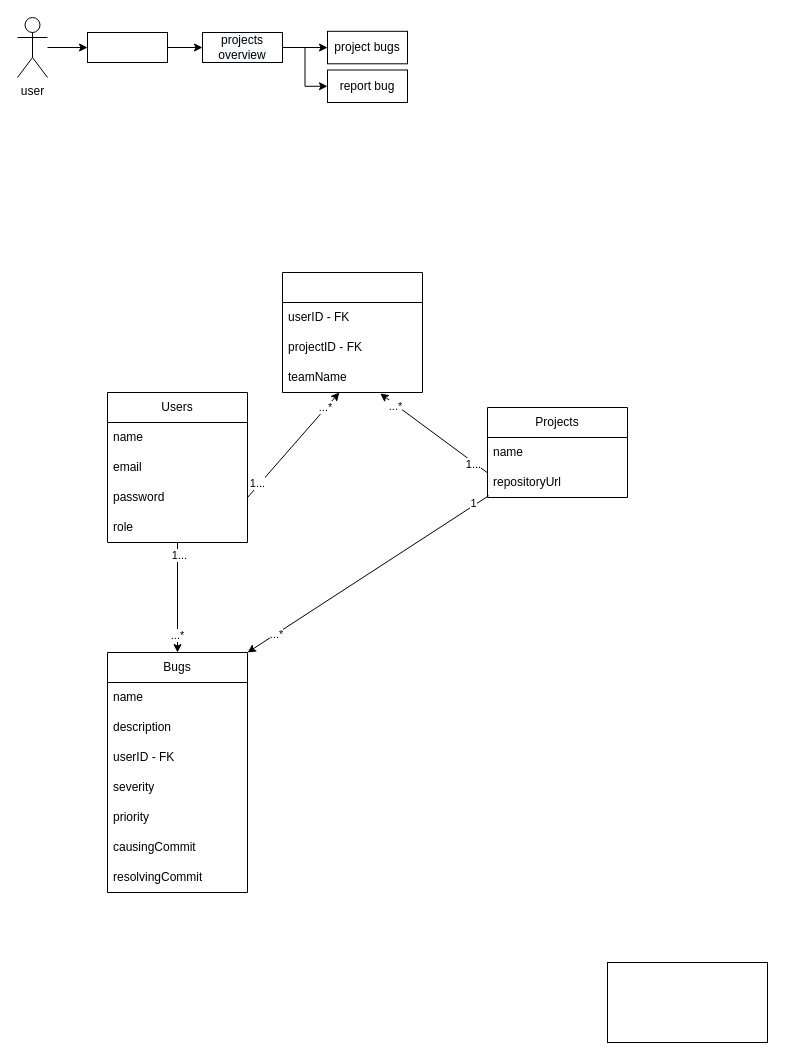
This 785x1060 diagram has some shape labels left out. The shapes that lost their labels are listed below. From the top down, each one's box as (x1, y1, x2, y2) in pixels, then its label:
(86, 32, 168, 62): login/register
(282, 272, 422, 392): UsersProjects
(606, 962, 768, 1042): mongo/mongoose express/node react/angular/vanilla+Jquery
